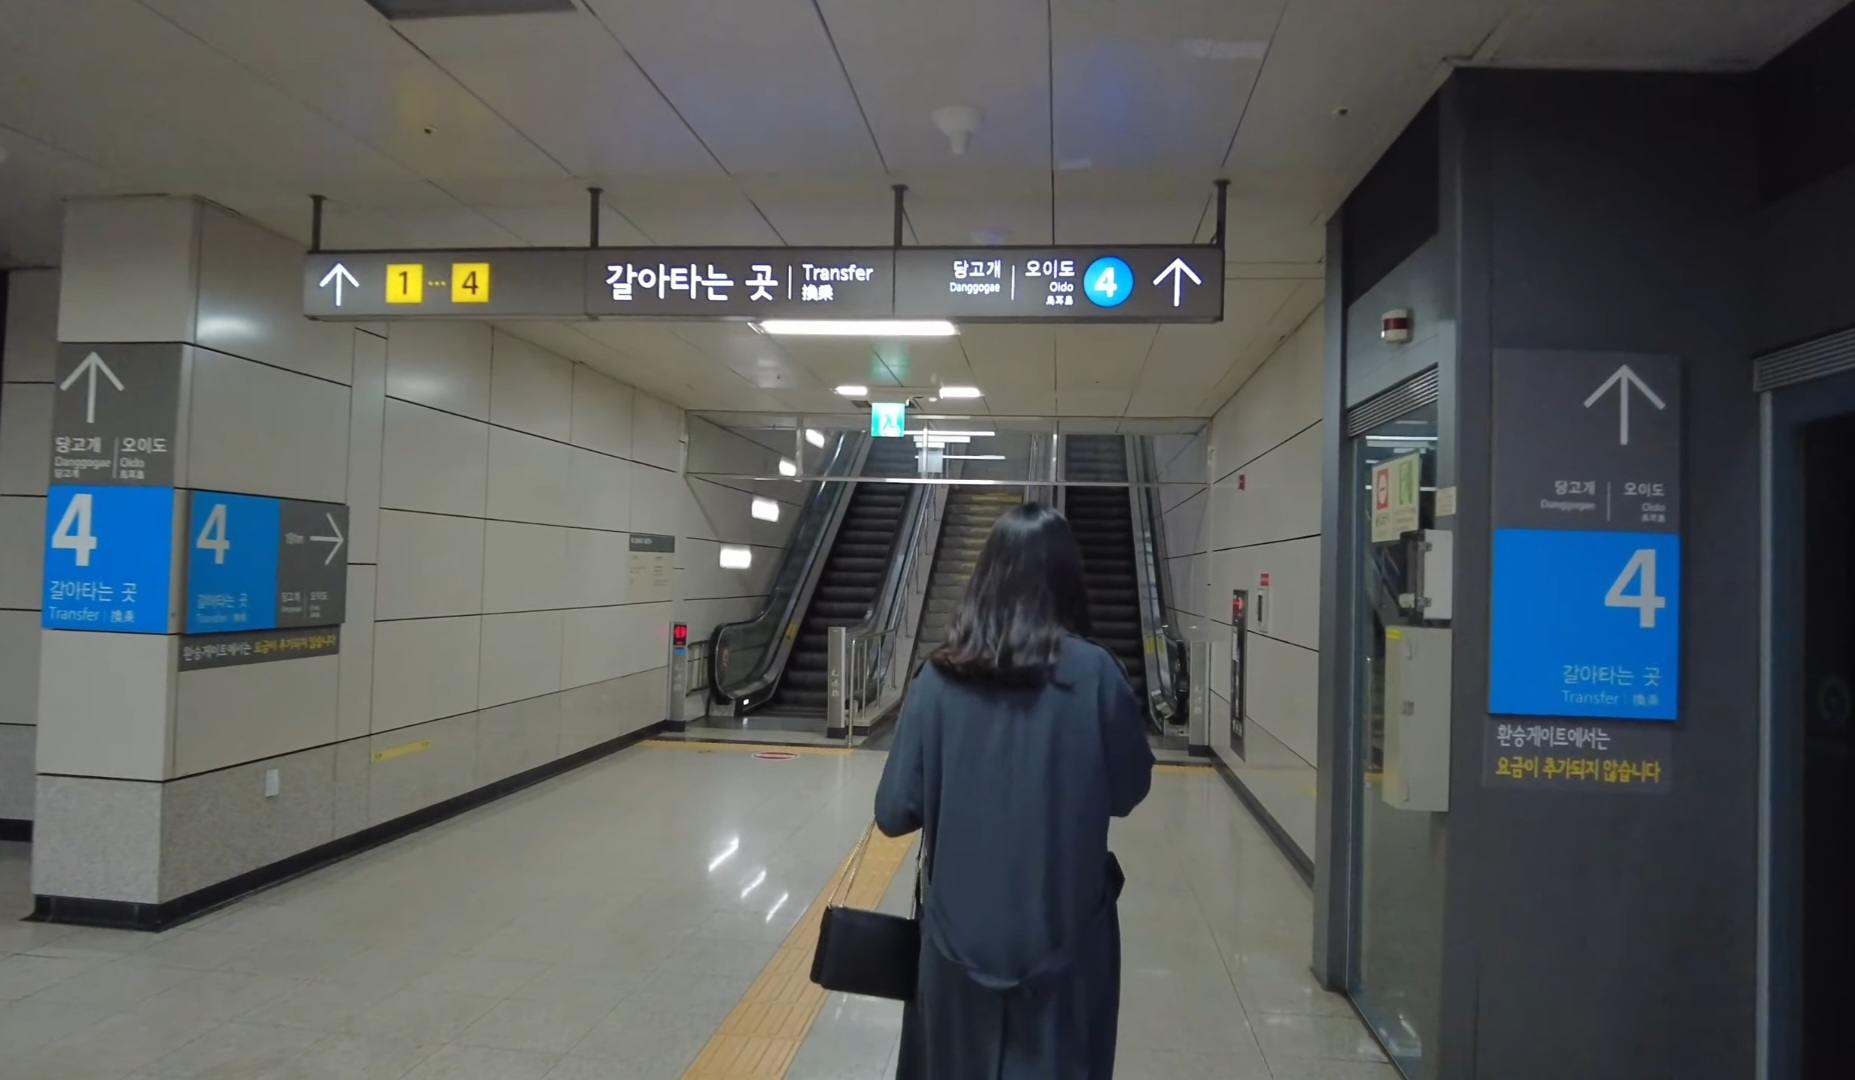signBoard: (258, 170, 1261, 336)
